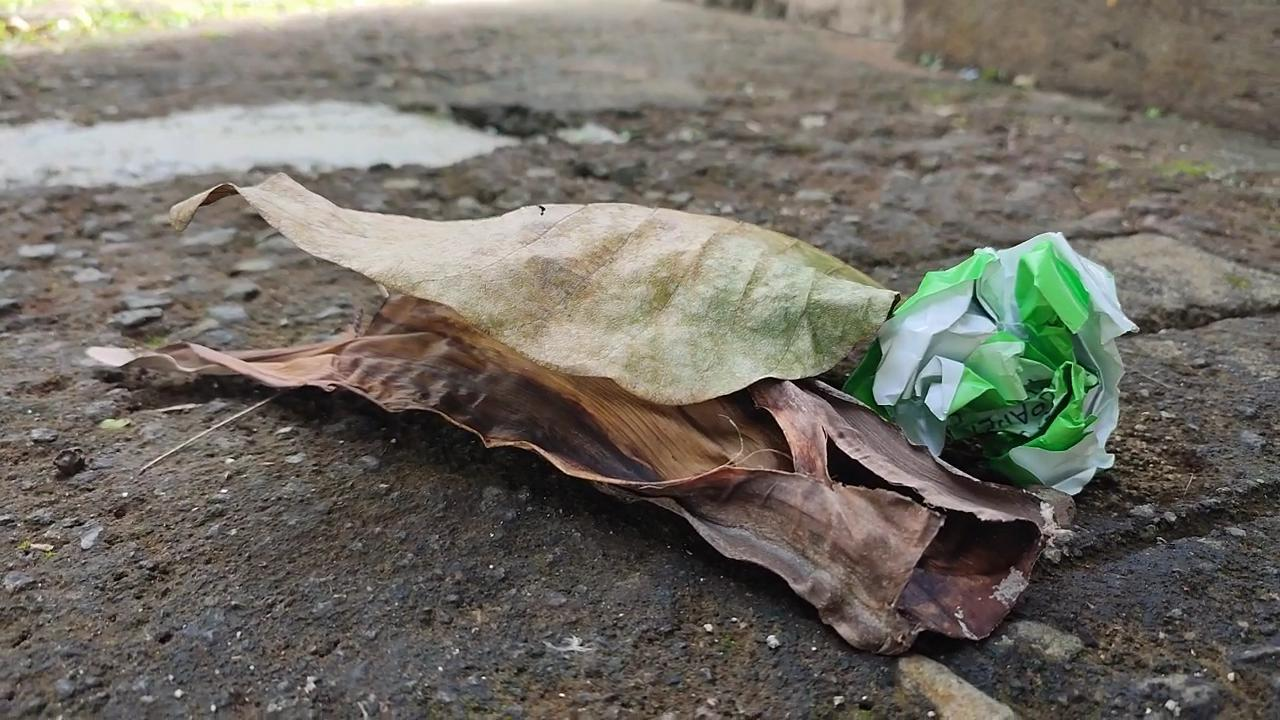Paper: (869, 215, 1134, 502)
